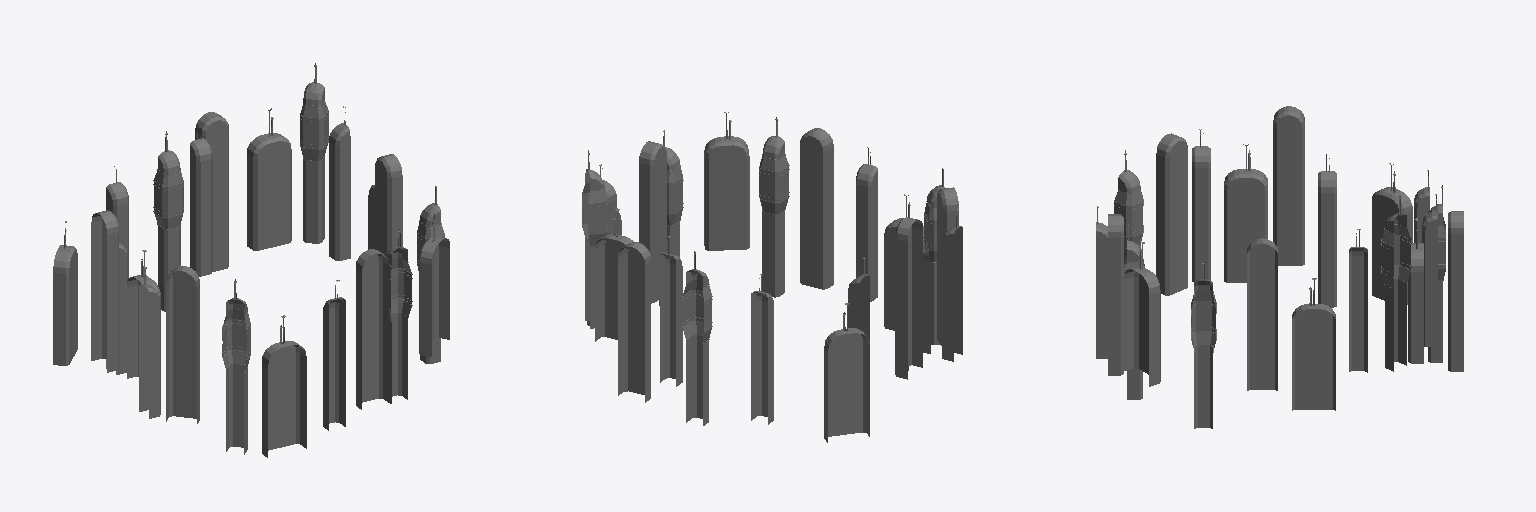
The model's file is back_buildings.obj.
3 views of the same model, side by side, from view 1: azimuth 30°, elevation 25°; view 2: azimuth 150°, elevation 25°; view 3: azimuth 270°, elevation 25° (orthographic).
Visible parts, largest first — view 1: back_buildings:Back_building_D6; view 2: back_buildings:Back_building_D6; view 3: back_buildings:Back_building_D6.
Boxes of the visible parts, x1,y1,x2,y2 form: back_buildings:Back_building_D6: [53, 63, 449, 457]; back_buildings:Back_building_D6: [582, 112, 962, 442]; back_buildings:Back_building_D6: [1096, 106, 1463, 428].
Bounding box in the file's own units: 278 × 211 × 290.